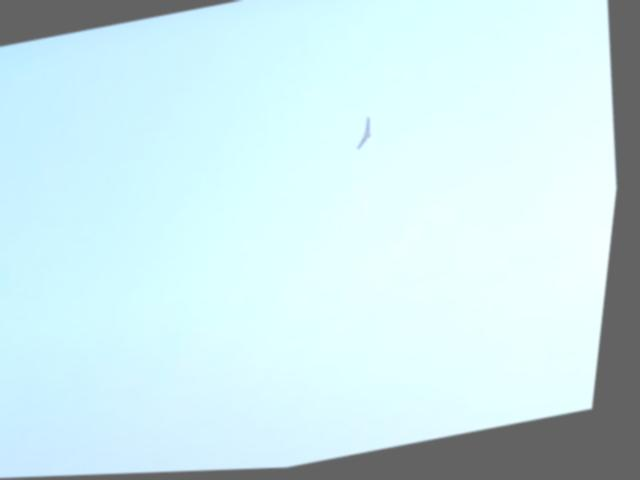iha: (356, 118, 380, 153)
